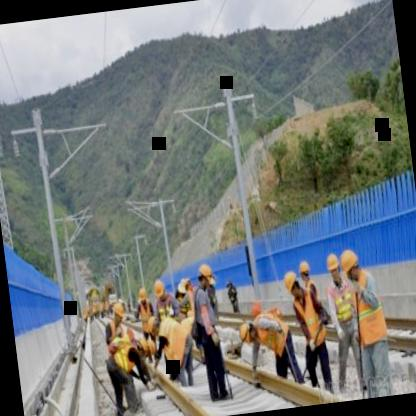helmet: (338, 246, 364, 282), (322, 250, 345, 286), (280, 268, 304, 301), (192, 263, 216, 289), (235, 320, 256, 348), (144, 314, 164, 338), (109, 299, 127, 324), (151, 276, 167, 304), (296, 258, 310, 282), (134, 338, 149, 358), (134, 285, 147, 306)
